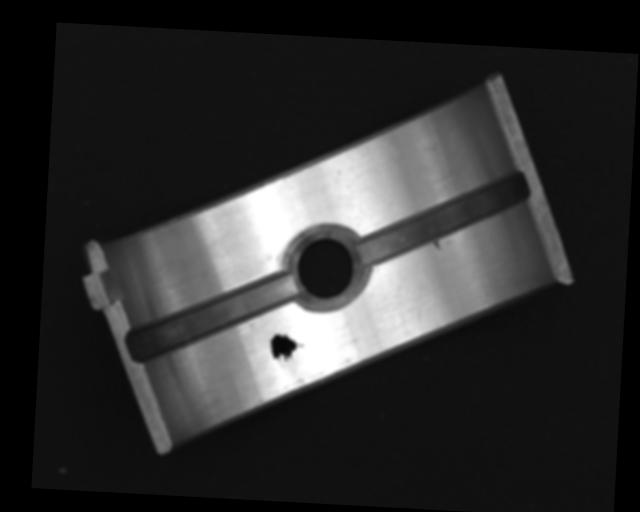blot: (267, 332, 305, 370)
bruise: (430, 238, 442, 251)
gap: (358, 164, 529, 275), (126, 267, 296, 371)
hole: (288, 225, 366, 309)
